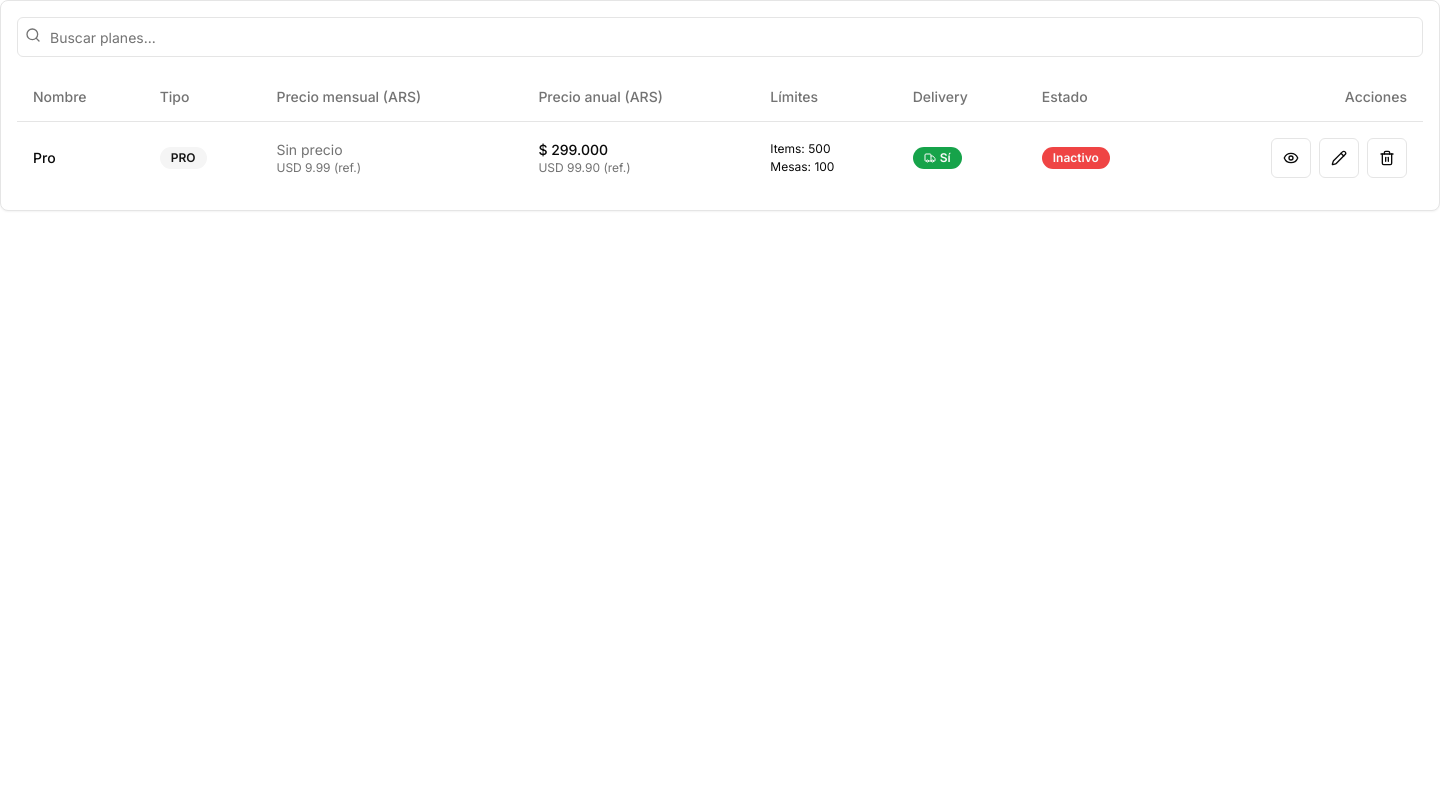
it: PlansTable: detalle del plan › muestra "Sin precio" y el estado real del plan
Click the 1st button. click: (1291, 158)
box: [1271, 138, 1311, 178]
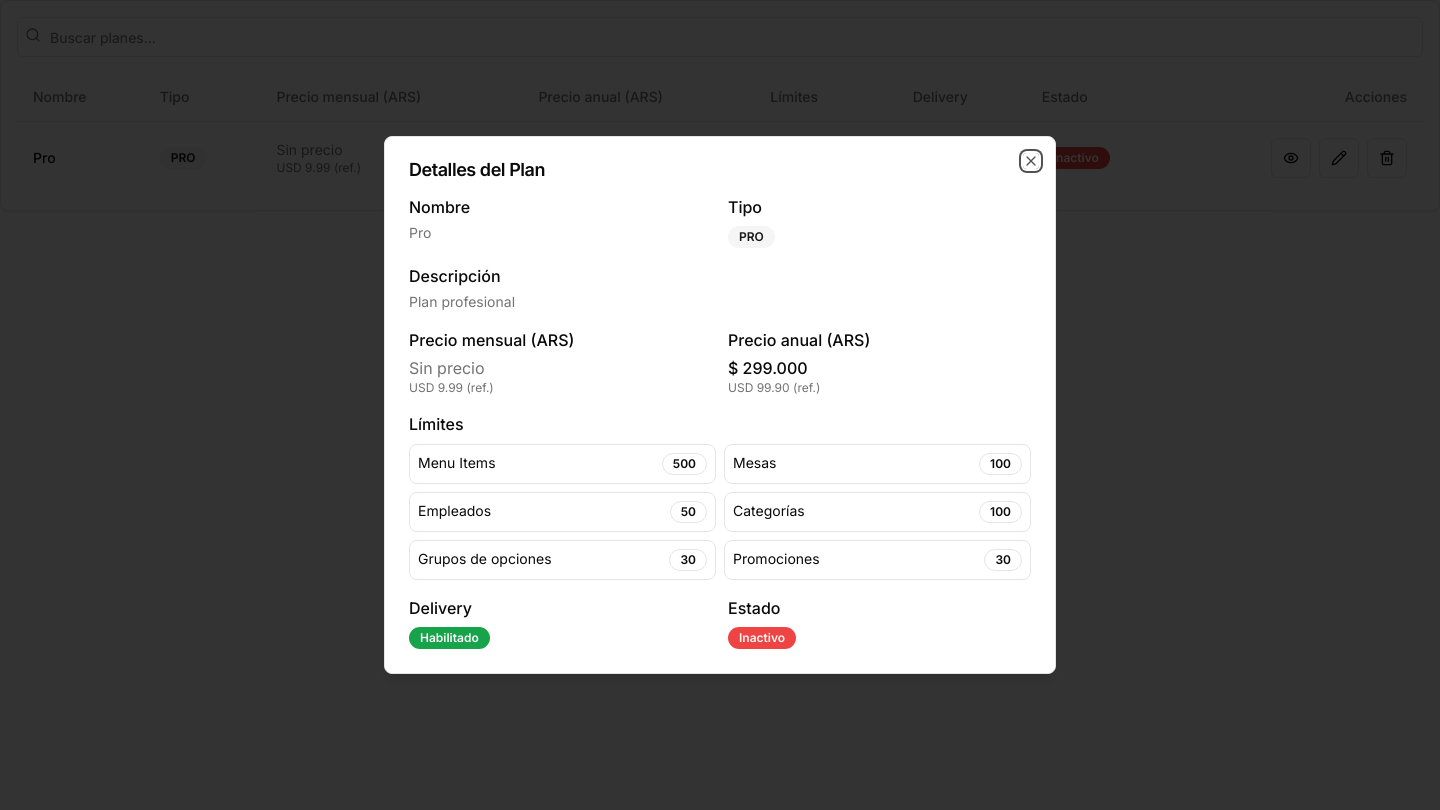
Expected: the text "Sin precio" is shown, [409, 358, 485, 378]
Expected: the text "$ 299.000" is shown, [728, 358, 808, 378]
Expected: the text "Inactivo" is shown, [728, 627, 796, 649]
